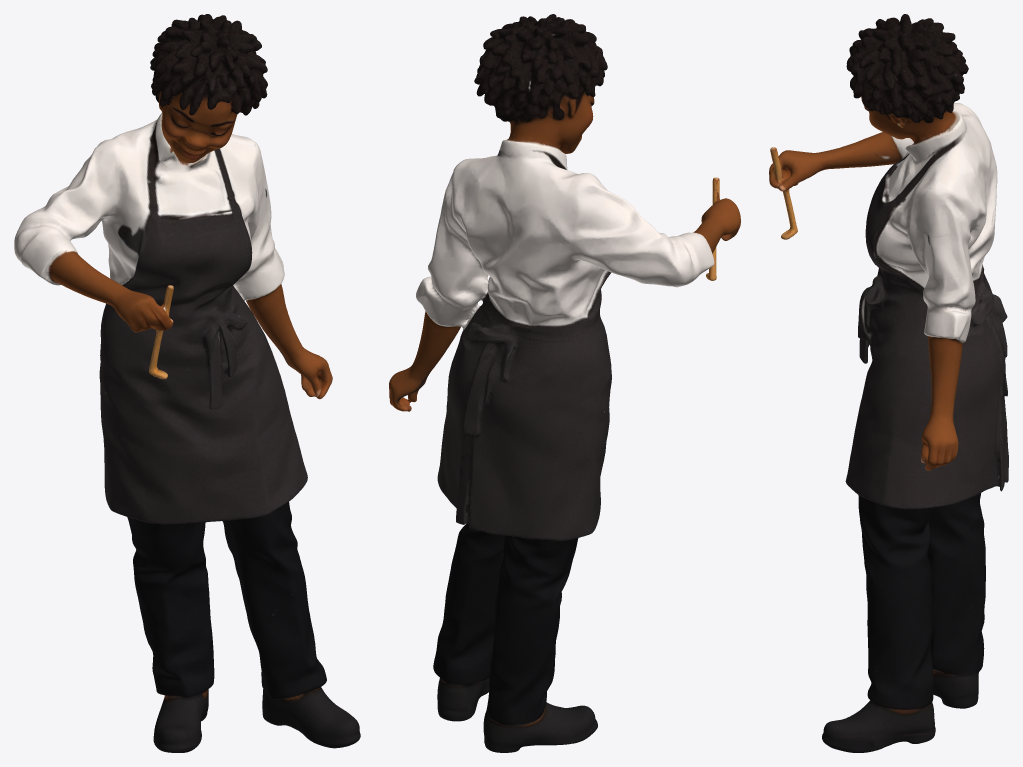
File: chef_pose1.glb
3 views of the same model, side by side, from view 1: azimuth 30°, elevation 25°; view 2: azimuth 150°, elevation 25°; view 3: azimuth 270°, elevation 25° (orthographic). The views are drawn at different scales.
Bounding box in the file's own units: 0.858 × 1.9 × 0.6068.
Materials: 1 (1 with a texture image).
